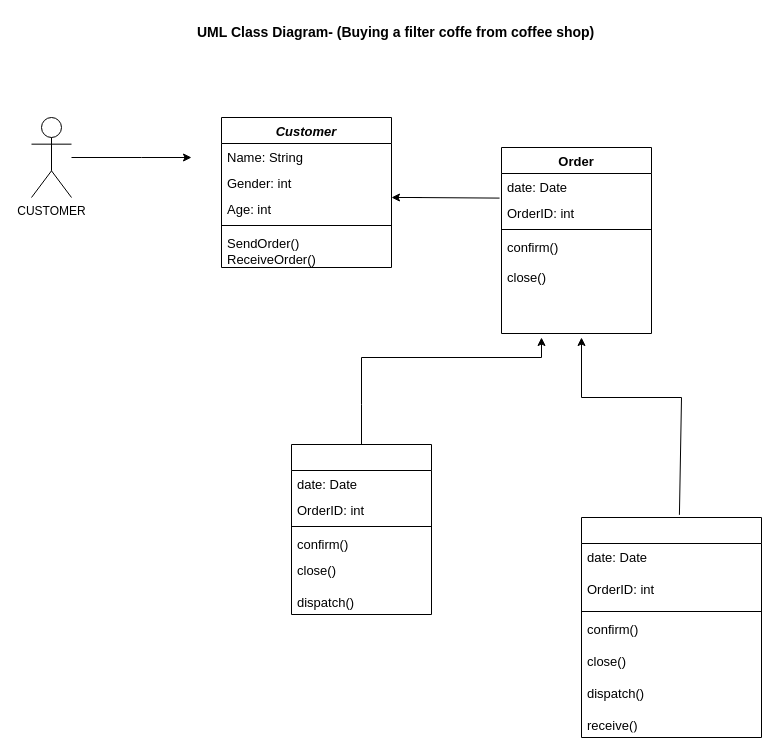
The diagram is 779 pixels wide and 755 high, and some of its shapes have lost their labels. The shapes that lost their labels are listed below. From the top down, each one's box as (x1, y1, x2, y2) in pixels, then its label:
(290, 444, 432, 614): SpecialOrder
(580, 516, 762, 738): NormalOrder
